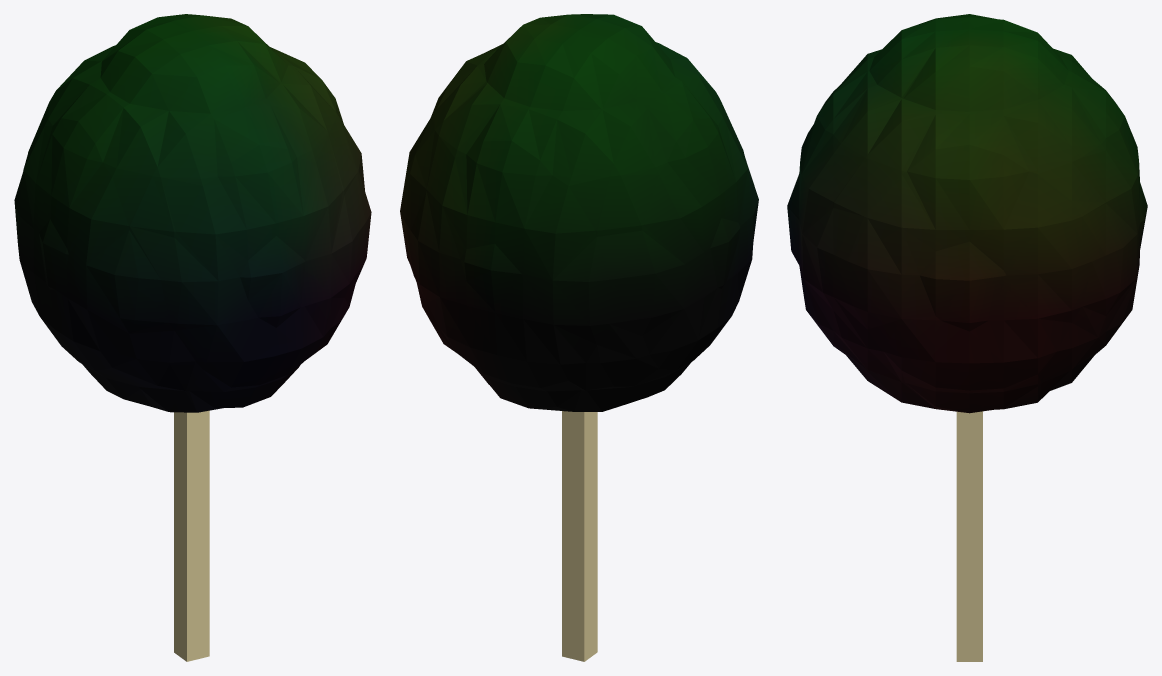
The model's file is Zuckerwatte.fbx.
The picture shows the model from 3 angles, left to right: view 1: azimuth 30°, elevation 25°; view 2: azimuth 150°, elevation 25°; view 3: azimuth 270°, elevation 25°; orthographic projection.
Visible parts, largest first — view 1: polySurface2, pCube1; view 2: polySurface2, pCube1; view 3: polySurface2, pCube1.
Part boxes in pixels (x1=…): polySurface2: x1=14, y1=14, x2=371, y2=412; pCube1: x1=174, y1=410, x2=209, y2=661; polySurface2: x1=400, y1=14, x2=758, y2=411; pCube1: x1=562, y1=411, x2=597, y2=661; polySurface2: x1=787, y1=14, x2=1147, y2=413; pCube1: x1=956, y1=411, x2=982, y2=661.
Size of the model in its own units: 4.42 by 8.74 by 4.56.
